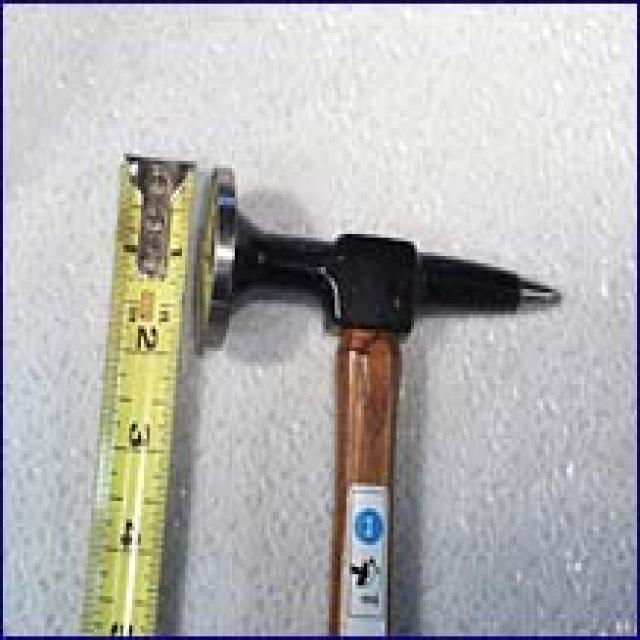hammer: (200, 168, 560, 635)
scale: (85, 156, 195, 635)
